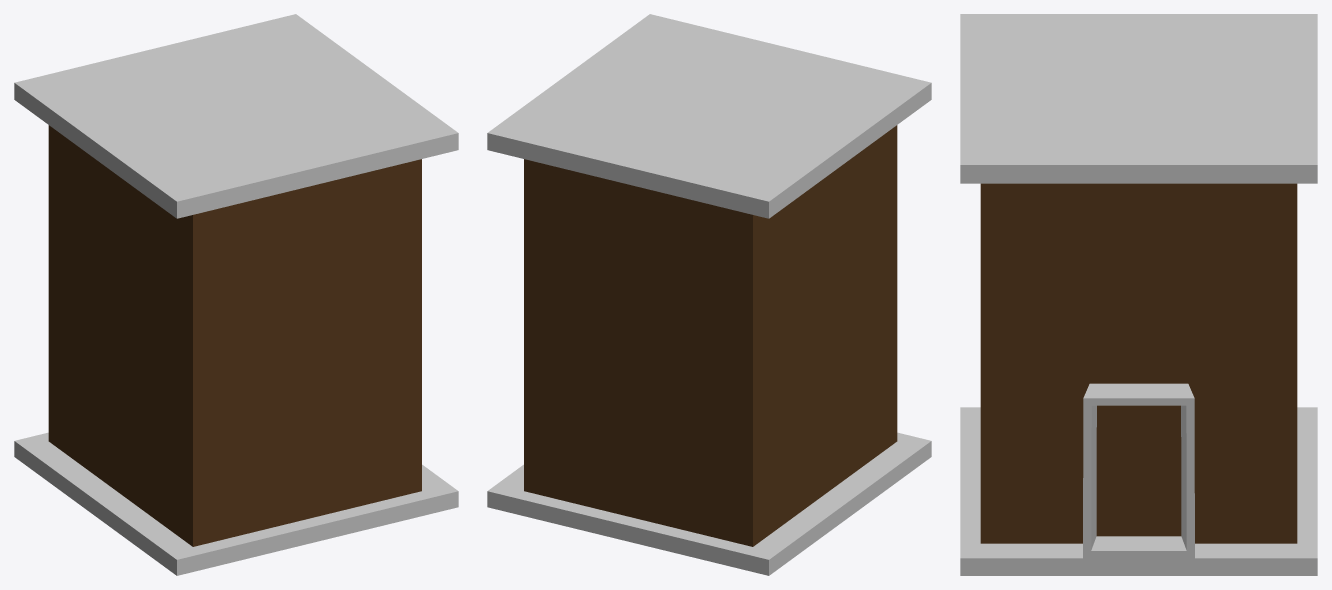
File: house_2.fbx
3 views of the same model, side by side, from view 1: azimuth 30°, elevation 25°; view 2: azimuth 150°, elevation 25°; view 3: azimuth 270°, elevation 25° (orthographic). The views are drawn at different scales.
Visible parts, largest first — view 1: house_2; view 2: house_2; view 3: house_2.
Part boxes in pixels (<box>): house_2: <box>14,14,458,575</box>; house_2: <box>487,14,931,575</box>; house_2: <box>960,14,1317,575</box>.
Bounding box in the file's own units: 402 × 402 × 511.
